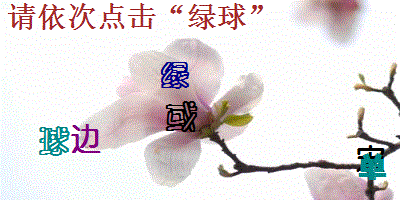result: (186, 2, 248, 31)
text: (164, 99, 199, 134), (70, 121, 104, 156), (37, 125, 70, 158), (158, 59, 191, 90), (354, 143, 386, 174), (359, 153, 387, 182)
